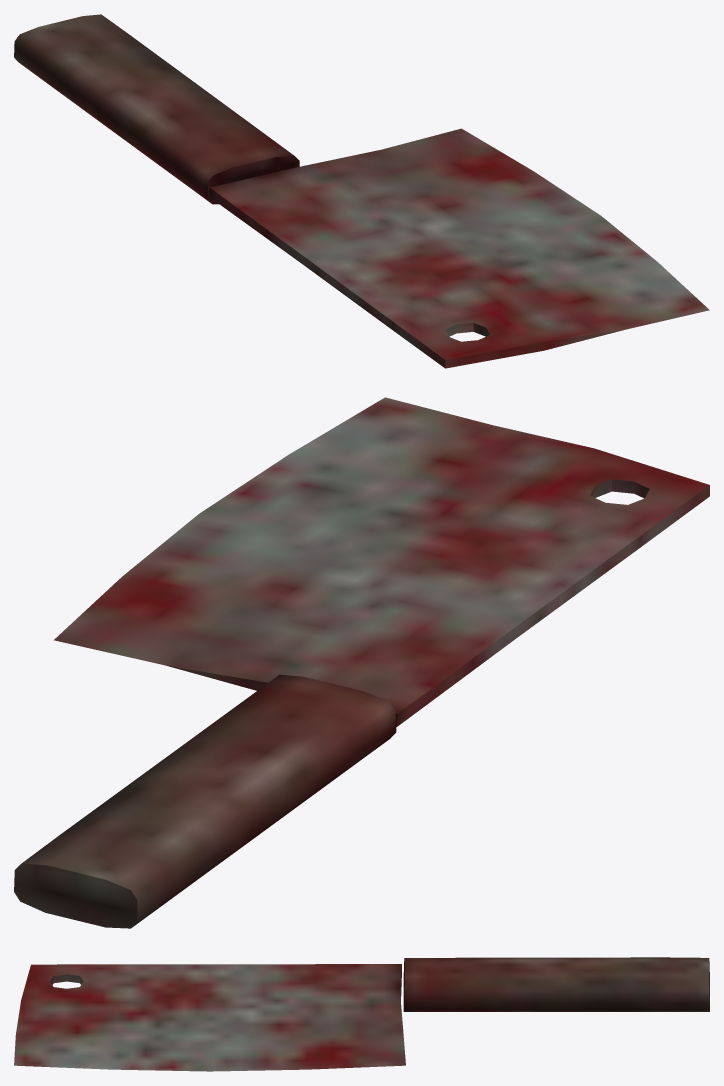
The model's file is MeatCleaver.FBX.
3 views of the same model, one above another, from view 1: azimuth 30°, elevation 25°; view 2: azimuth 150°, elevation 25°; view 3: azimuth 270°, elevation 25° (orthographic). The views are drawn at different scales.
Parts seen in each view (by area): view 1: MeatCleaver; view 2: MeatCleaver; view 3: MeatCleaver.
Part boxes in pixels (<box>): MeatCleaver: <box>14,14,709,368</box>; MeatCleaver: <box>14,397,709,928</box>; MeatCleaver: <box>14,957,709,1071</box>.
Size of the model in its own units: 11.8 by 1.55 by 33.33.
